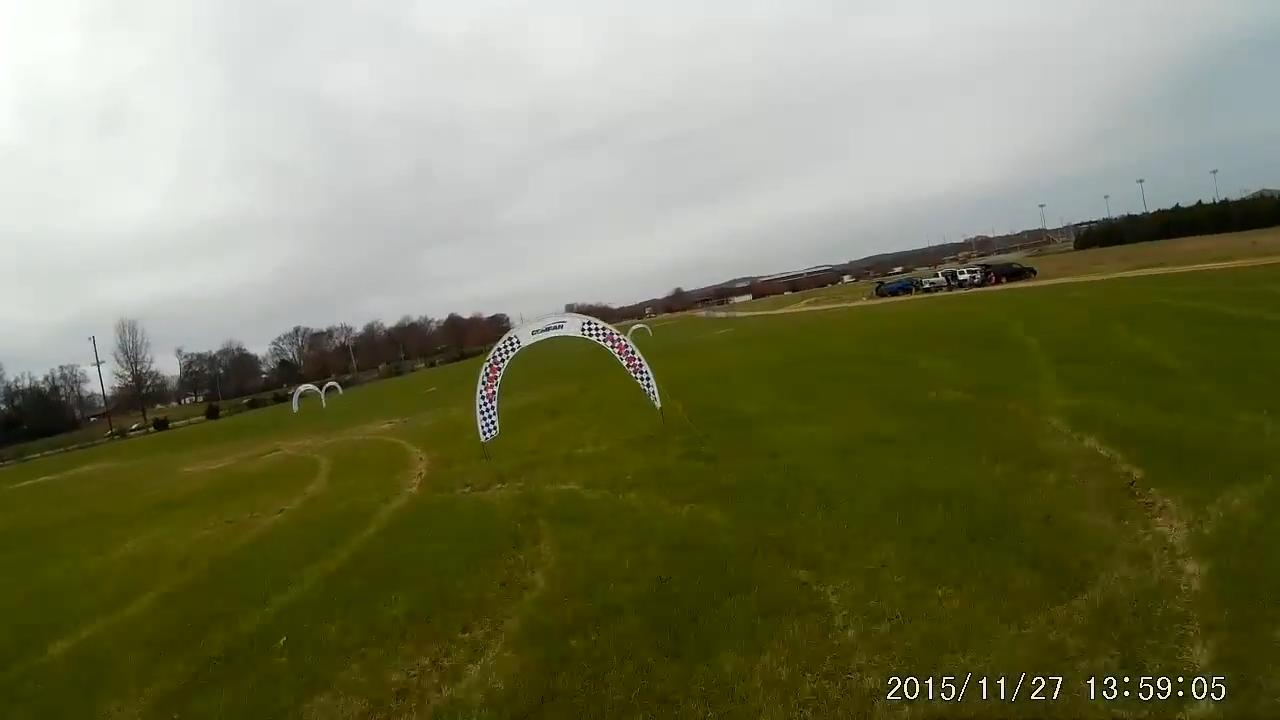gate: (472, 315, 660, 442)
